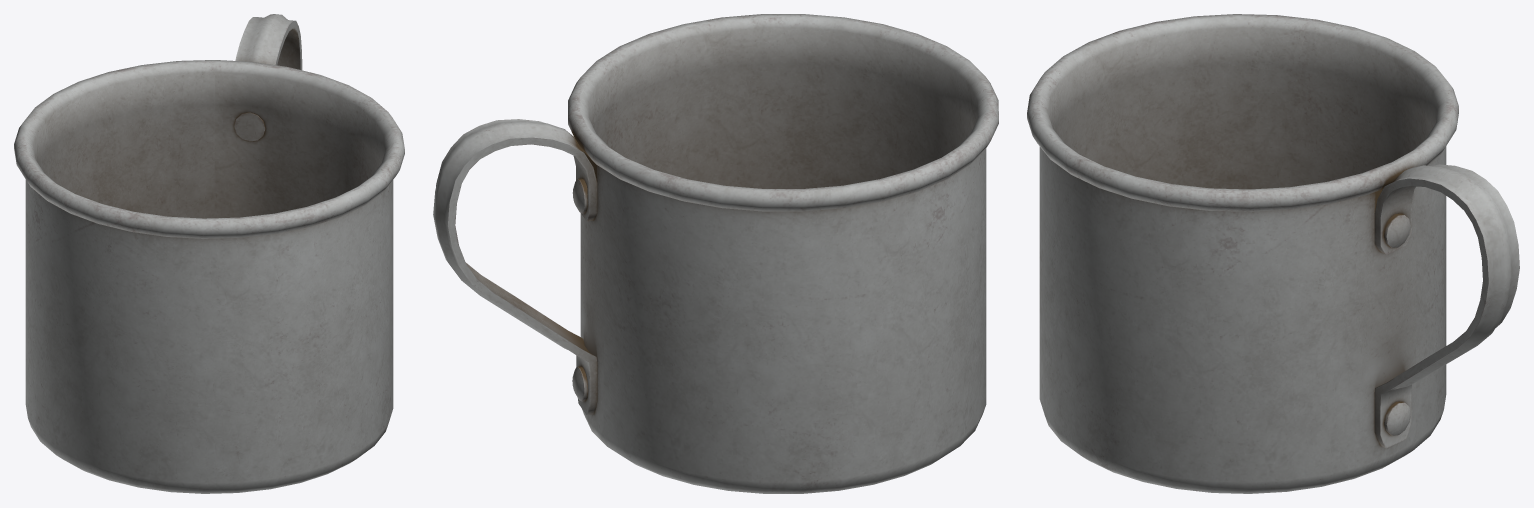
The model's file is mug.fbx.
The picture shows the model from 3 angles, left to right: view 1: azimuth 30°, elevation 25°; view 2: azimuth 150°, elevation 25°; view 3: azimuth 270°, elevation 25°; orthographic projection. The views are drawn at different scales.
Parts seen in each view (by area): view 1: kruzka; view 2: kruzka; view 3: kruzka.
Part boxes in pixels (left/top/right/bottom): kruzka: left=14, top=14, right=404, bottom=493; kruzka: left=433, top=14, right=998, bottom=493; kruzka: left=1027, top=14, right=1519, bottom=493.
Bounding box in the file's own units: 7.66 × 5.8 × 7.92.
